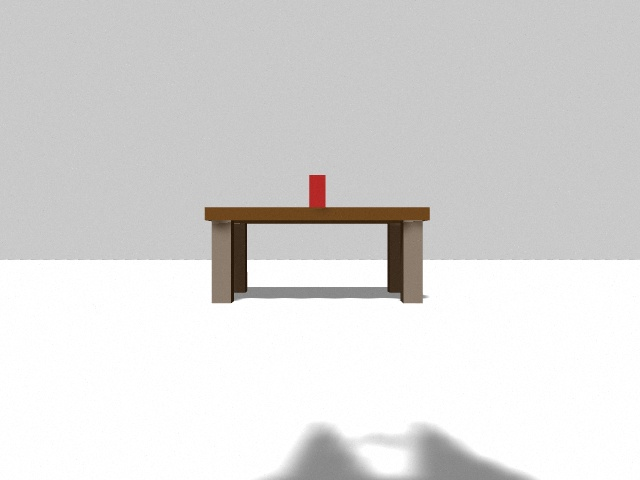red_cube: (309, 175, 325, 208)
